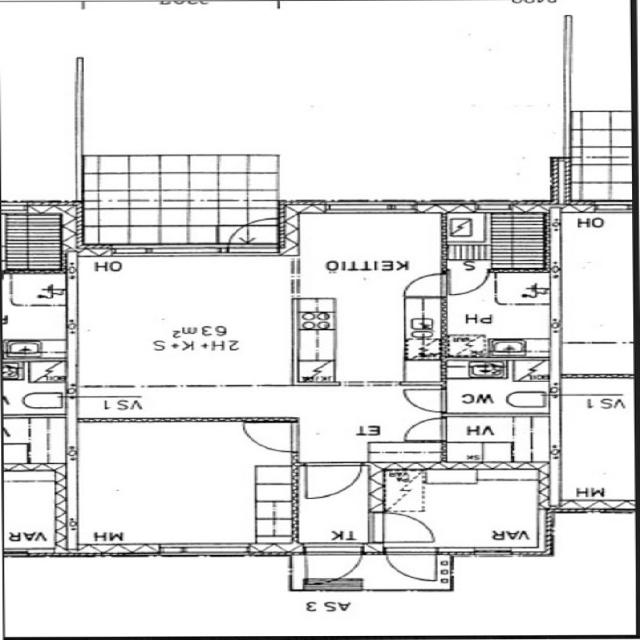door: (443, 268, 560, 358), (299, 542, 364, 588), (297, 460, 364, 501), (382, 544, 444, 585), (237, 419, 303, 456), (376, 509, 442, 545), (396, 384, 451, 414), (399, 270, 451, 300), (398, 414, 451, 443), (444, 266, 492, 297)
window: (85, 241, 261, 261), (321, 197, 416, 216), (155, 542, 250, 560), (446, 543, 519, 561), (1, 546, 51, 561), (334, 379, 394, 390), (548, 362, 564, 398)
zone: (72, 252, 300, 388), (70, 422, 294, 554), (289, 205, 442, 389), (377, 464, 550, 554), (550, 393, 640, 512), (444, 270, 560, 359), (445, 207, 555, 270), (443, 358, 554, 415), (439, 414, 551, 470), (1, 467, 70, 555), (1, 270, 72, 345), (2, 202, 69, 270), (0, 361, 68, 419), (0, 416, 69, 470), (1, 342, 66, 361)
